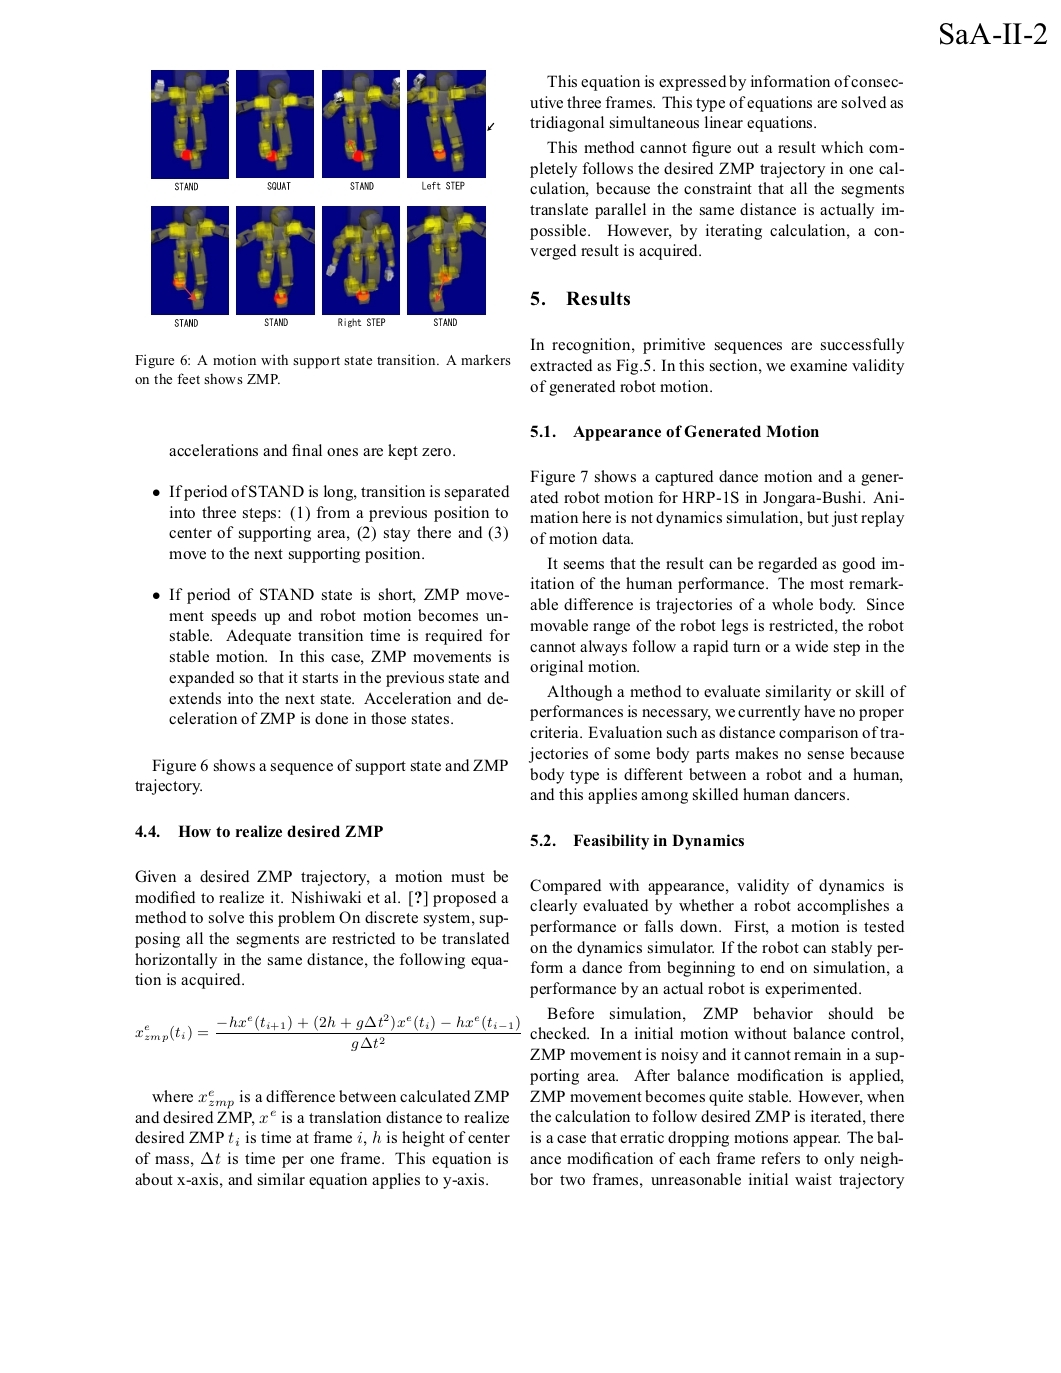figure: (407, 70, 491, 181), (407, 206, 485, 320), (150, 70, 228, 183), (236, 206, 314, 319), (322, 70, 399, 183), (150, 206, 228, 314), (322, 206, 399, 314), (236, 70, 313, 177)
formula: (135, 1012, 520, 1051)
